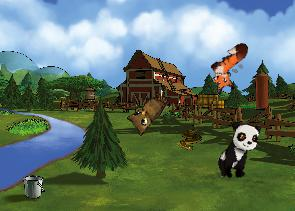fox: (200, 39, 262, 98)
owl: (122, 84, 169, 138)
panda: (214, 117, 263, 184)
